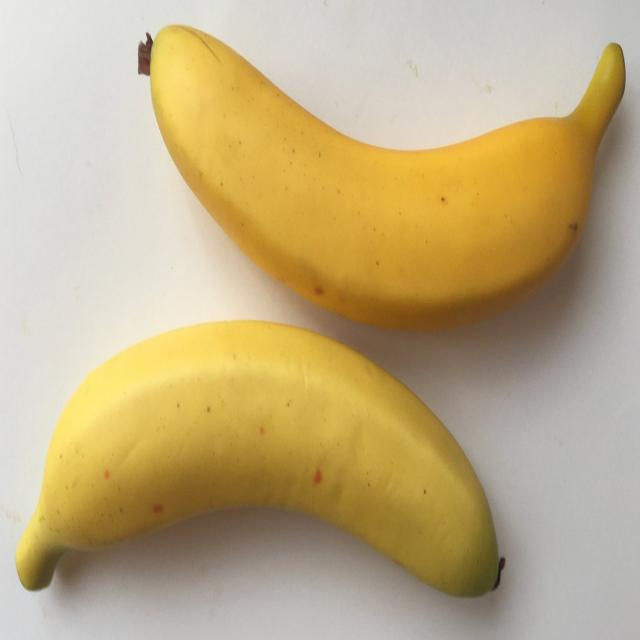Banana: (143, 20, 631, 328), (4, 319, 506, 597)
